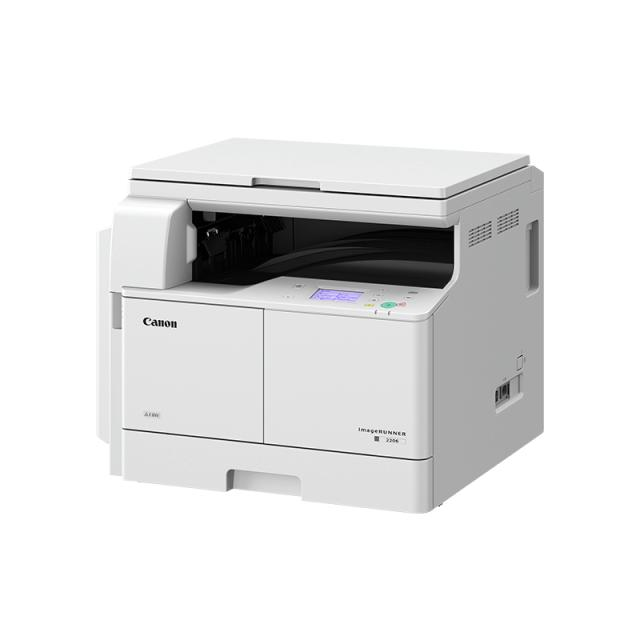printer: (97, 135, 545, 514)
